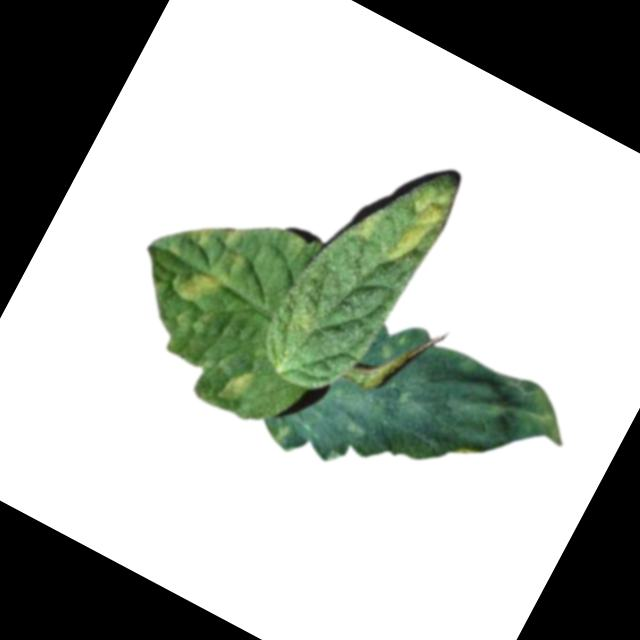Leaf_Mold: (260, 282, 584, 564), (375, 175, 458, 277), (173, 262, 226, 313), (218, 362, 264, 413)
